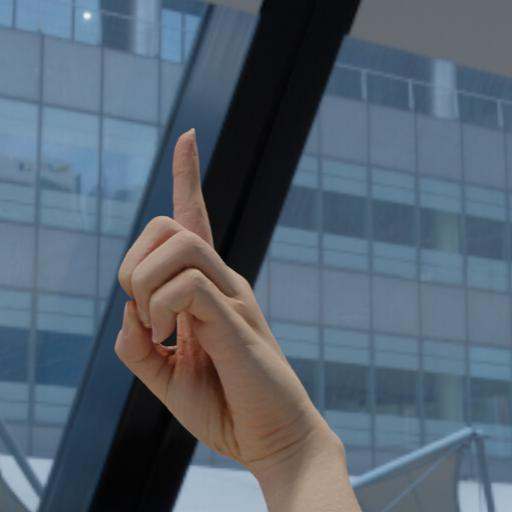D: (99, 122, 359, 486)
